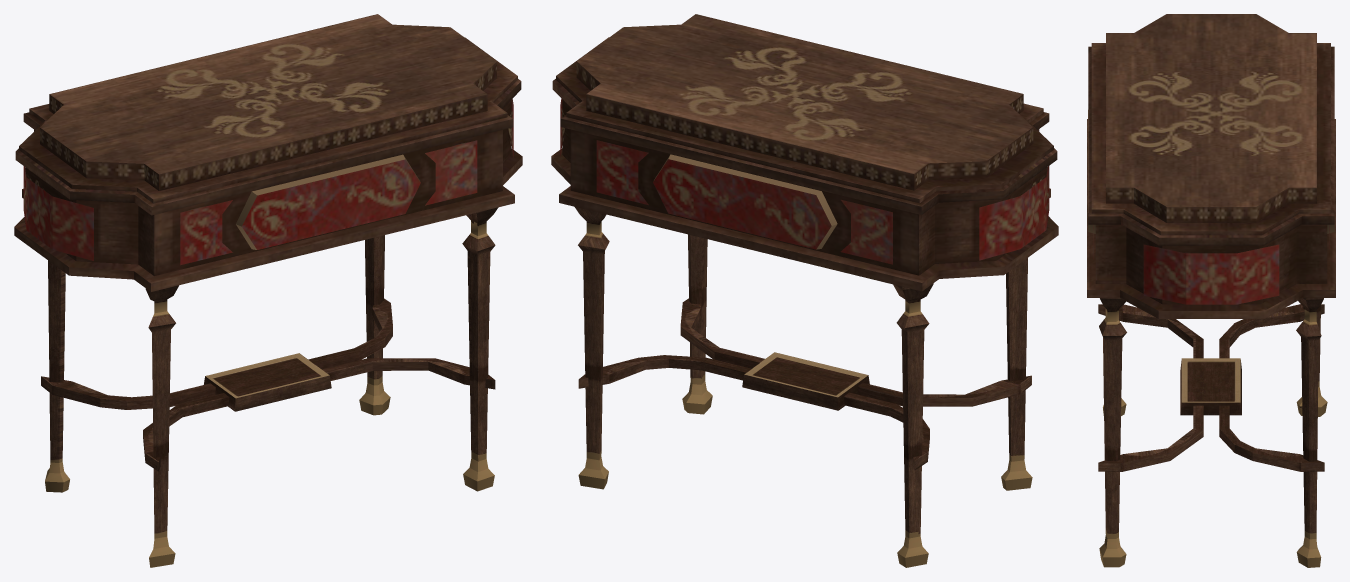
Rendered from Table_03_Mesh.fbx.
3 renders of one model, left to right at view 1: azimuth 30°, elevation 25°; view 2: azimuth 150°, elevation 25°; view 3: azimuth 270°, elevation 25°, orthographic. The views are drawn at different scales.
Visible parts, largest first — view 1: table_03; view 2: table_03; view 3: table_03.
Part boxes in pixels (x1,y1,x2,y2): table_03: (14,14,522,567); table_03: (551,14,1058,567); table_03: (1087,14,1335,567).
Bounding box in the file's own units: 101 × 82.83 × 49.43.
